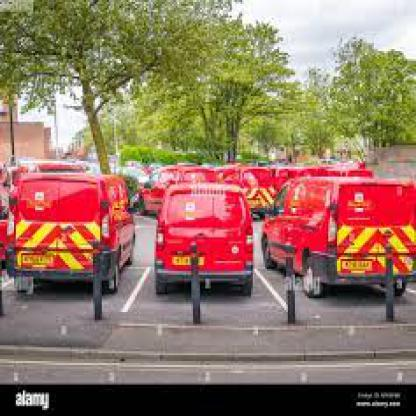van: (262, 177, 414, 298), (7, 173, 137, 294), (153, 182, 256, 296)
